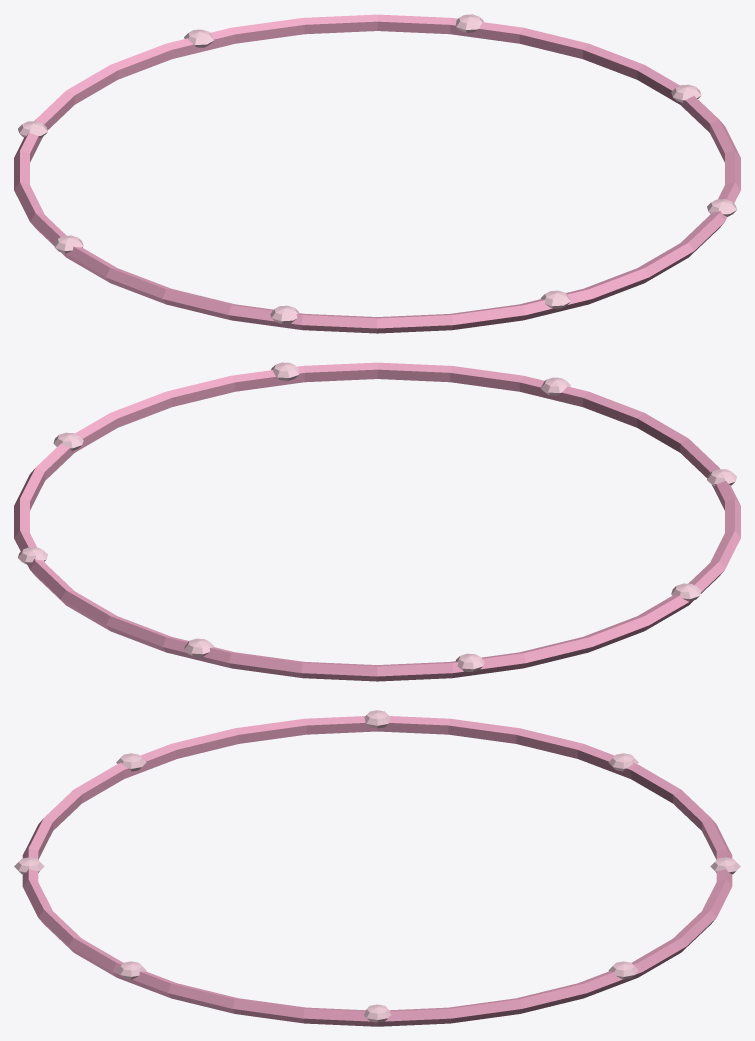
Rendered from aro_flor.glb.
The picture shows the model from 3 angles, top to bottom: view 1: azimuth 30°, elevation 25°; view 2: azimuth 150°, elevation 25°; view 3: azimuth 270°, elevation 25°; orthographic projection. The views are drawn at different scales.
Parts seen in each view (by area): view 1: aro_flor; view 2: aro_flor; view 3: aro_flor.
Boxes of the visible parts, bbox=[...] form: aro_flor: bbox=[14, 14, 740, 333]; aro_flor: bbox=[14, 362, 740, 681]; aro_flor: bbox=[14, 710, 740, 1026].
Size of the model in its own units: 3.55 by 0.0999 by 3.55.
